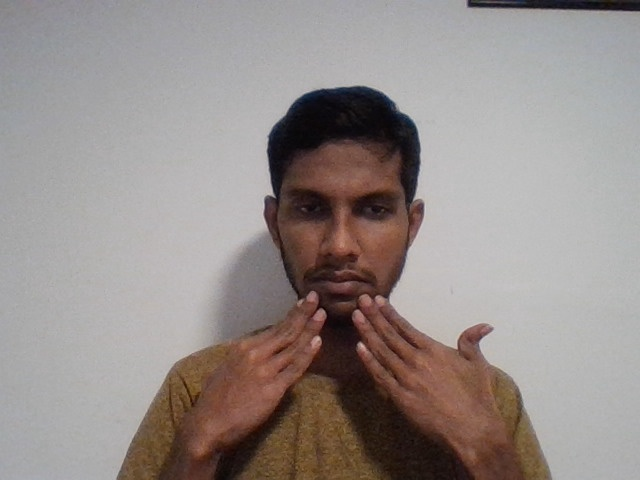thanks: (159, 290, 546, 458)
